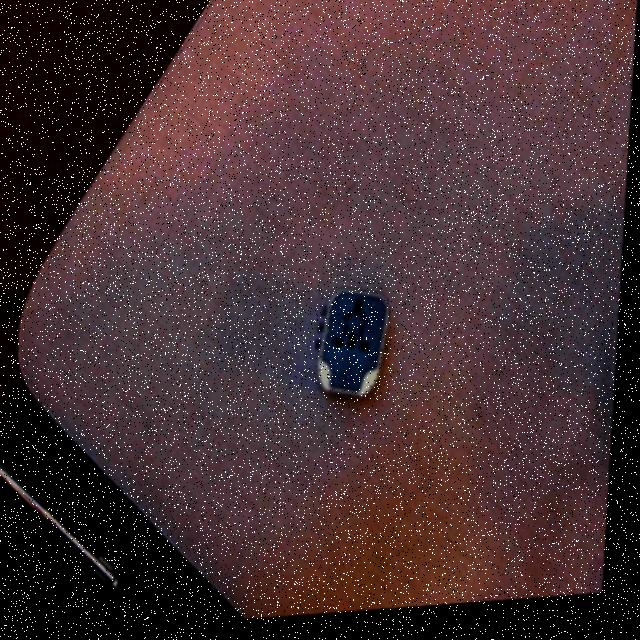adapter: (317, 289, 394, 407)
